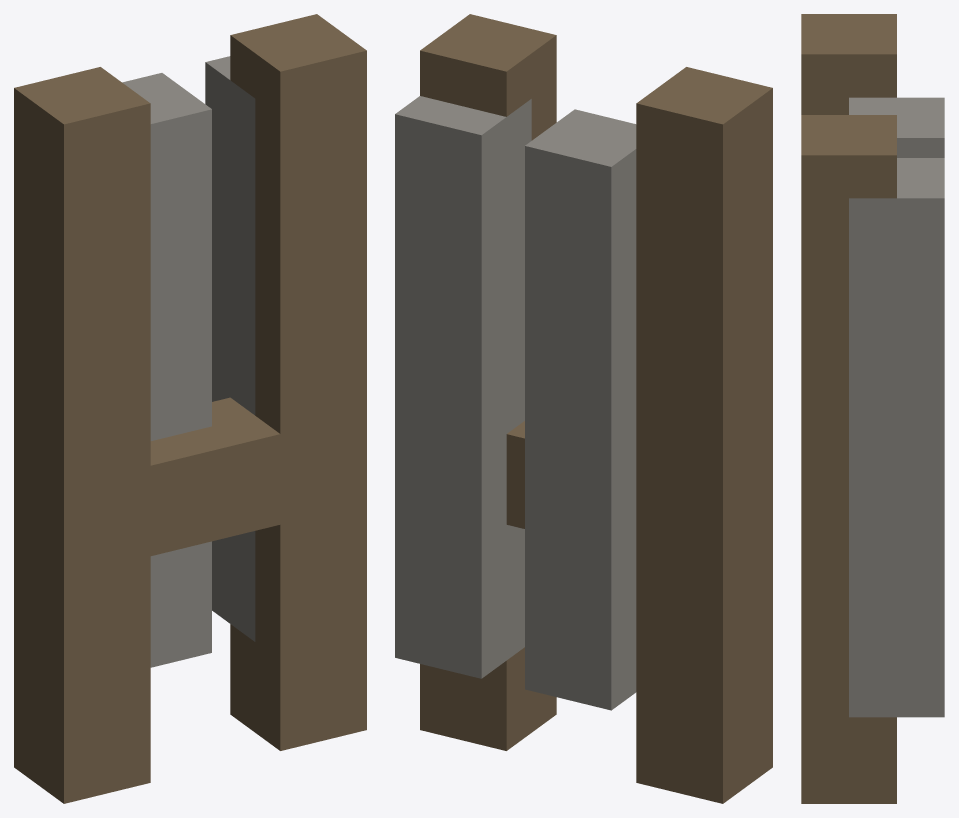
Rendered from armero_guardia_comunal_01.glb.
The picture shows the model from 3 angles, left to right: view 1: azimuth 30°, elevation 25°; view 2: azimuth 150°, elevation 25°; view 3: azimuth 270°, elevation 25°; orthographic projection. The views are drawn at different scales.
Visible parts, largest first — view 1: armero_guardia_comunal; view 2: armero_guardia_comunal; view 3: armero_guardia_comunal.
Boxes of the visible parts, x1,y1,x2,y2 form: armero_guardia_comunal: (14,14,366,803); armero_guardia_comunal: (395,14,772,803); armero_guardia_comunal: (801,14,944,803).
Bounding box in the file's own units: 0.7 × 1.5 × 0.3.
